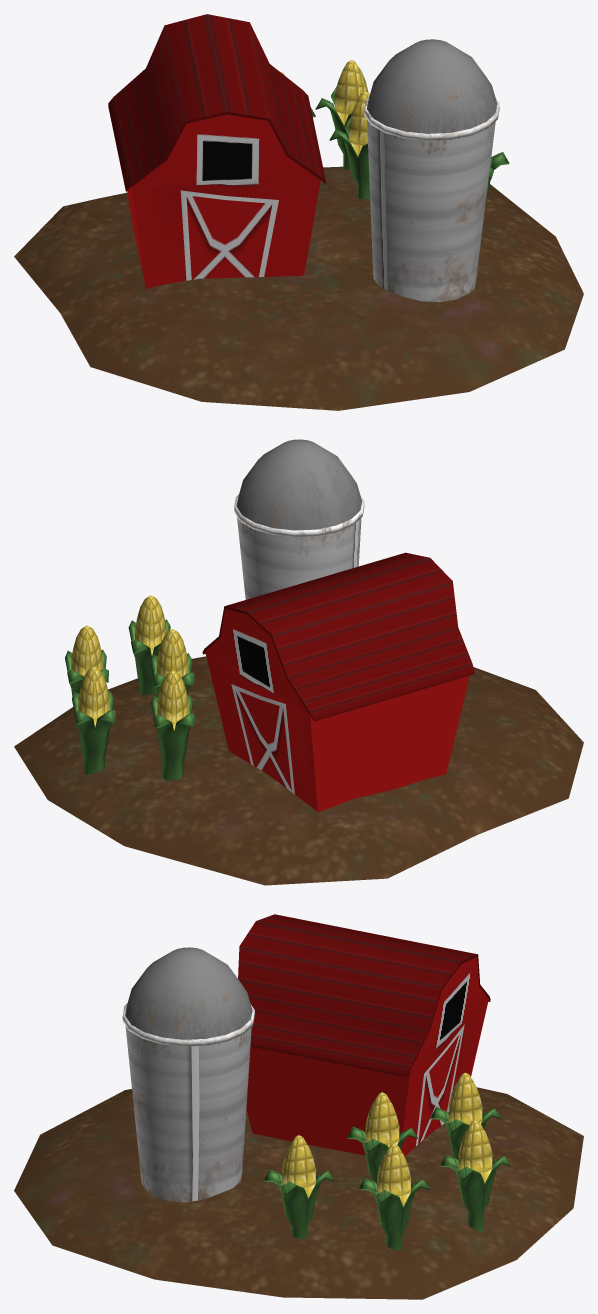
File: CornfieldFarm.FBX
3 renders of one model, top to bottom at view 1: azimuth 30°, elevation 25°; view 2: azimuth 150°, elevation 25°; view 3: azimuth 270°, elevation 25°, orthographic. The views are drawn at different scales.
Visible parts, largest first — view 1: Sphere001, Box001, Cylinder001, Box008, Box007; view 2: Sphere001, Box001, Cylinder001, Box009, Box007, Box005, Box006, Box008; view 3: Sphere001, Box001, Cylinder001, Box007, Box006, Box005, Box008, Box009.
Boxes of the visible parts, left/top/right/bottom form: Sphere001: left=14, top=166, right=583, bottom=410; Box001: left=108, top=14, right=325, bottom=288; Cylinder001: left=364, top=39, right=499, bottom=301; Box008: left=329, top=91, right=369, bottom=199; Box007: left=315, top=60, right=368, bottom=169; Sphere001: left=14, top=656, right=583, bottom=885; Box001: left=202, top=552, right=474, bottom=811; Cylinder001: left=234, top=439, right=364, bottom=599; Box009: left=151, top=670, right=195, bottom=780; Box007: left=72, top=666, right=115, bottom=774; Box005: left=128, top=595, right=170, bottom=695; Box006: left=65, top=625, right=108, bottom=728; Box008: left=150, top=629, right=194, bottom=697; Sphere001: left=14, top=1087, right=583, bottom=1299; Box001: left=238, top=914, right=490, bottom=1156; Cylinder001: left=122, top=947, right=254, bottom=1202; Box007: left=440, top=1120, right=510, bottom=1232; Box006: left=358, top=1143, right=429, bottom=1250; Box005: left=263, top=1135, right=334, bottom=1238; Box008: left=347, top=1092, right=417, bottom=1182; Box009: left=430, top=1072, right=500, bottom=1179.
Bounding box in the file's own units: 116 × 61.32 × 120.
